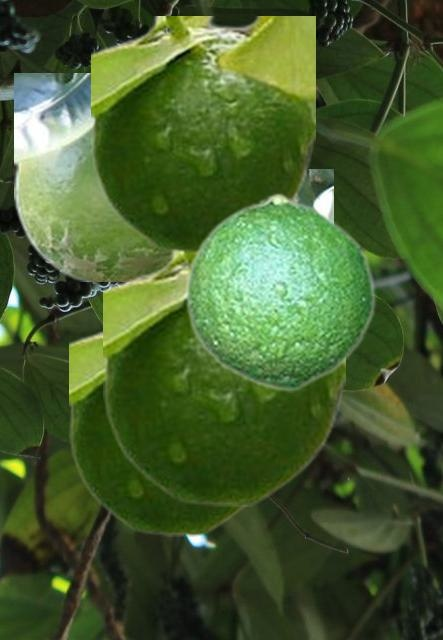dalandan: (103, 252, 344, 505), (91, 16, 314, 253), (183, 192, 375, 391), (69, 326, 249, 535), (14, 73, 168, 280), (297, 169, 332, 217)
